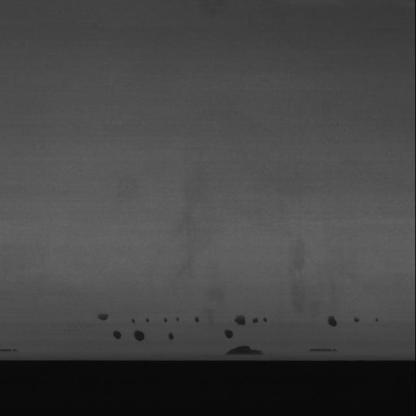oil_spot: (94, 322, 179, 346), (96, 308, 193, 328), (319, 312, 382, 334), (229, 310, 272, 334), (225, 342, 274, 358), (304, 346, 351, 354), (0, 345, 27, 354)
